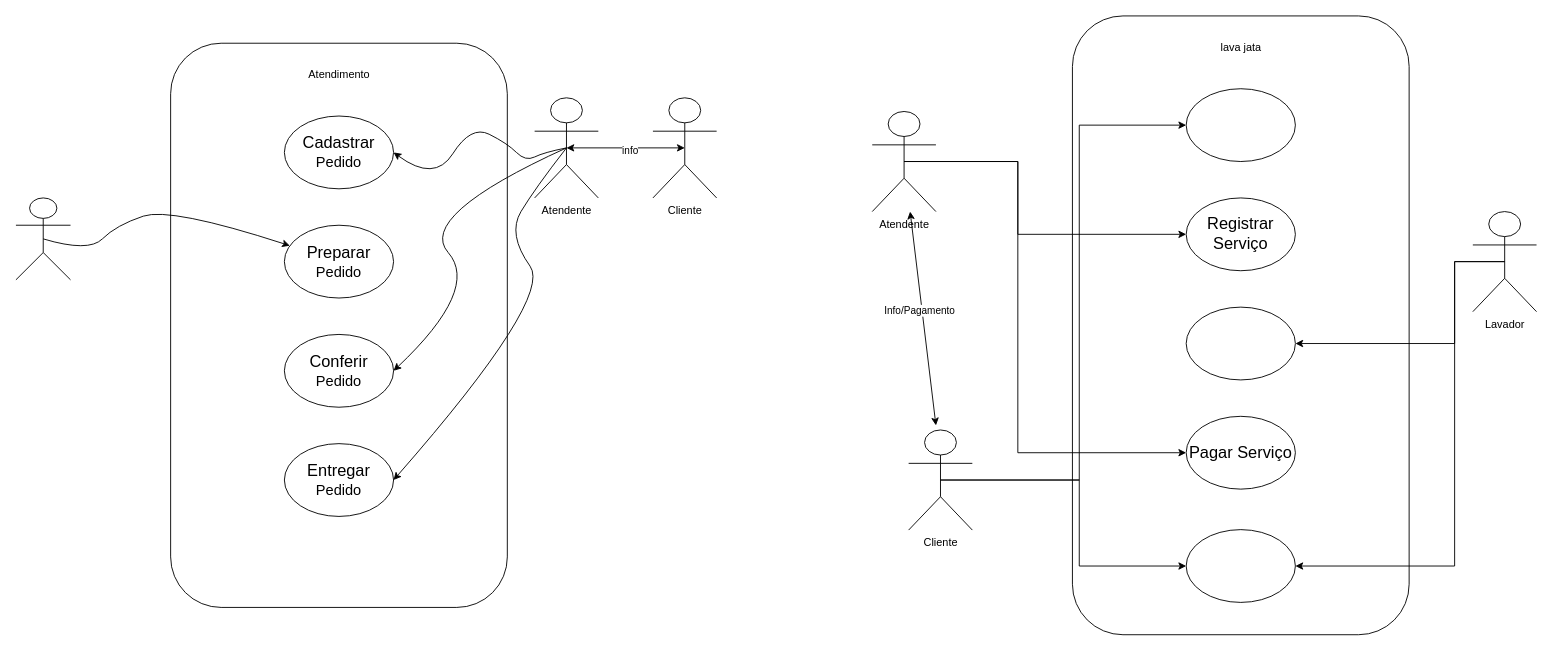
Some shapes in this 1552 by 651 pixel diagram are drawn without their labels. Here are the shapes that lost their labels. From the top down, the box of each, then its label:
(1185, 88, 1295, 162): Escolher Serviço
(15, 197, 71, 280): Cozinheiro
(1185, 306, 1295, 380): Realizar Serviço
(1185, 529, 1295, 602): Entregar veículo
